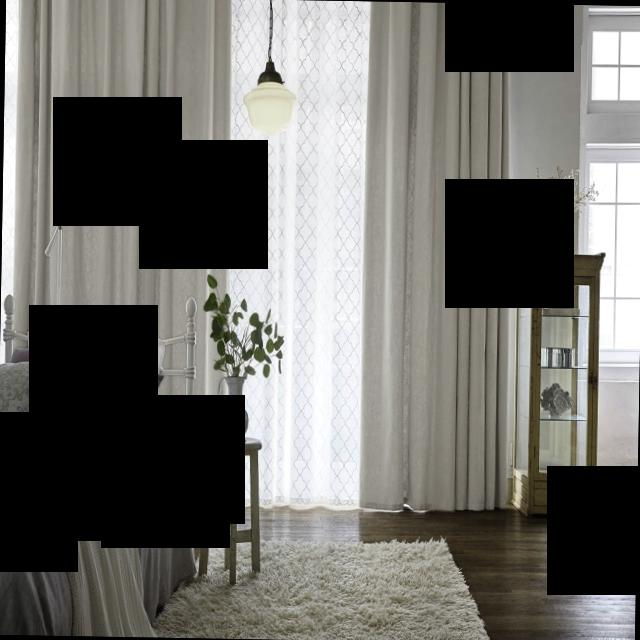white bed: (0, 336, 199, 637)
